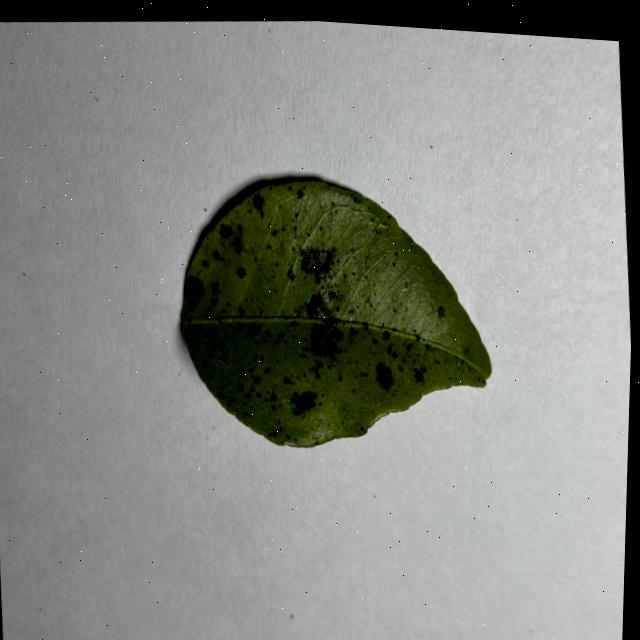sooty_mold: (182, 181, 491, 446)
